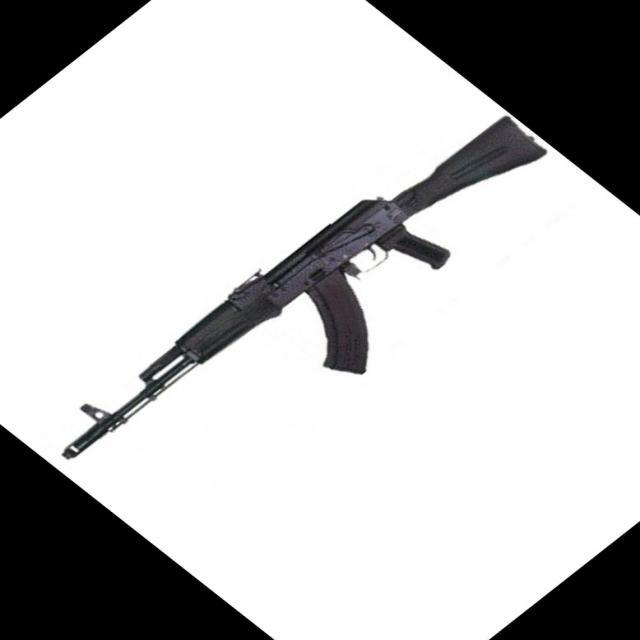weapon: (59, 115, 550, 463)
